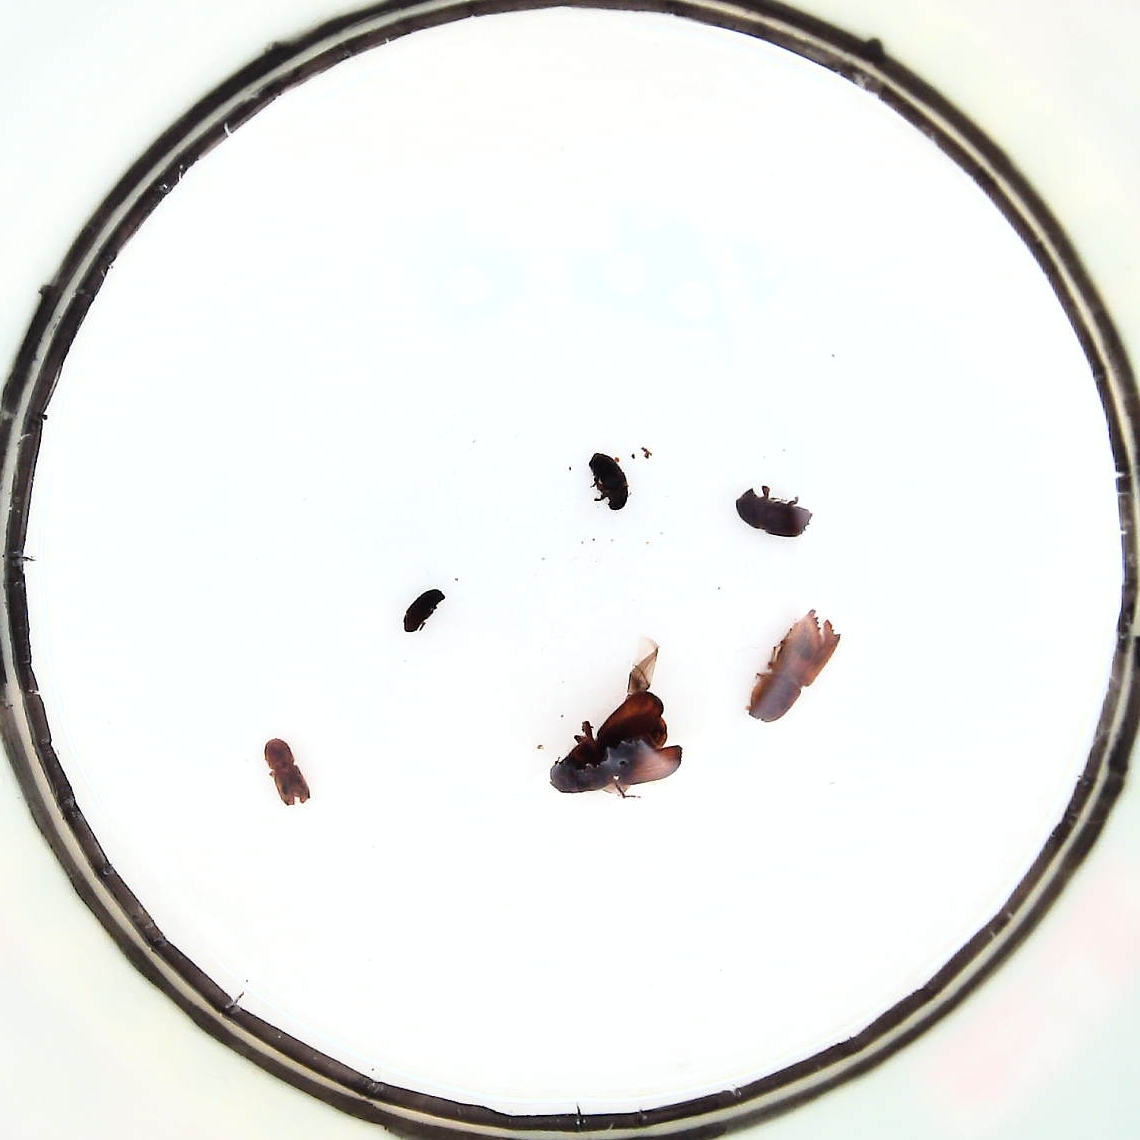Leconte: (551, 692, 681, 794), (744, 609, 841, 722)
acuminatus: (589, 451, 628, 510)
armandi: (264, 736, 309, 806)
coleoptera: (403, 588, 444, 632)
linnaeus: (737, 486, 812, 536)
